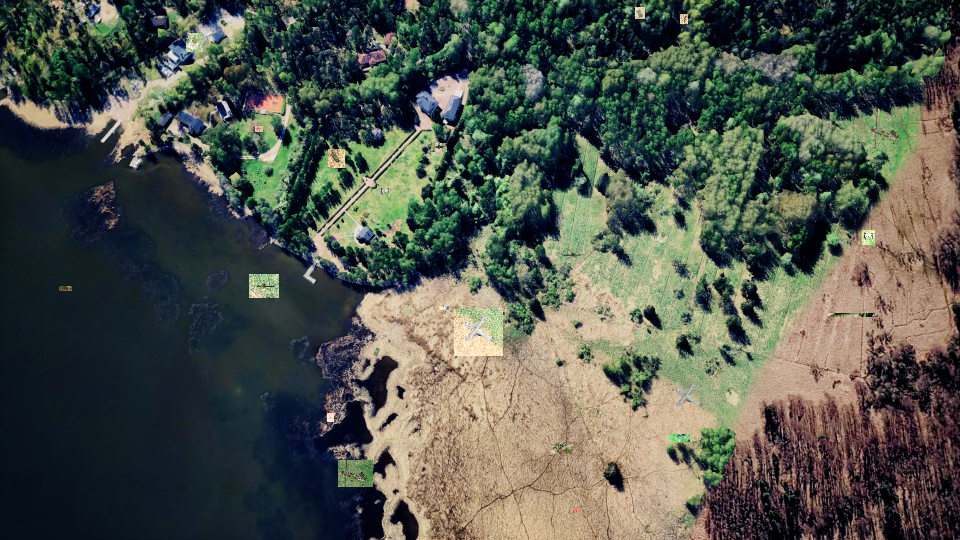condor: (454, 308, 503, 356)
hangar: (828, 313, 875, 317)
helicopter: (249, 274, 279, 298)
jammer: (635, 7, 645, 19)
jet_plane: (669, 434, 690, 442)
large_launcher: (338, 460, 373, 487)
large_tower: (551, 444, 572, 454)
medium_launcher: (59, 286, 72, 291)
medium_plane: (431, 143, 447, 152)
mine_roller: (328, 149, 345, 168)
small_launcher: (327, 413, 334, 422)
small_plane: (680, 14, 688, 24)
small_tower: (186, 33, 203, 52)
spacecraft: (862, 230, 875, 245)
ta-ta: (255, 126, 263, 132)
tank: (439, 306, 449, 310)
